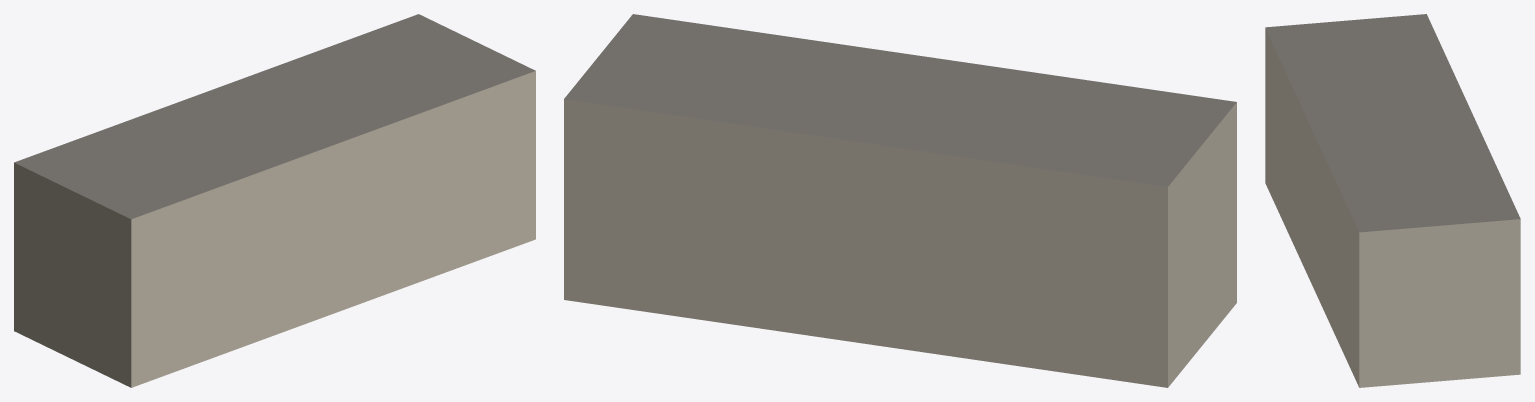
The picture shows the model from 3 angles, left to right: view 1: azimuth 30°, elevation 25°; view 2: azimuth 150°, elevation 25°; view 3: azimuth 270°, elevation 25°; orthographic projection. The views are drawn at different scales.
Visible parts, largest first — view 1: HP-w1286956103; view 2: HP-w1286956103; view 3: HP-w1286956103.
Part boxes in pixels (box(x1,y1,x2,y2)): HP-w1286956103: box(14, 14, 535, 387); HP-w1286956103: box(564, 14, 1236, 387); HP-w1286956103: box(1265, 14, 1520, 387).
Bounding box in the file's own units: 54.24 × 18 × 26.82.
